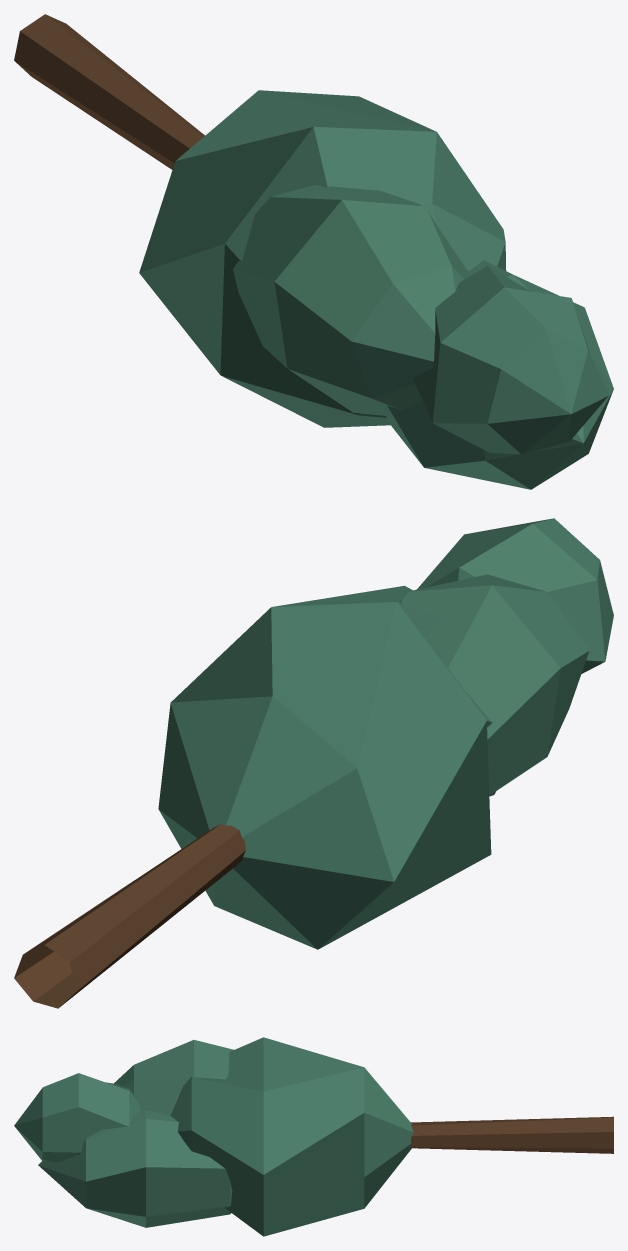
The model's file is growth_2.glb.
3 renders of one model, top to bottom at view 1: azimuth 30°, elevation 25°; view 2: azimuth 150°, elevation 25°; view 3: azimuth 270°, elevation 25°, orthographic. The views are drawn at different scales.
Parts seen in each view (by area): view 1: tree_11_growth_2; view 2: tree_11_growth_2; view 3: tree_11_growth_2.
Part boxes in pixels (box(x1,y1,x2,y2)): tree_11_growth_2: box(14, 14, 613, 489); tree_11_growth_2: box(14, 518, 613, 1008); tree_11_growth_2: box(14, 1037, 613, 1236).
Bounding box in the file's own units: 10.08 × 10.08 × 31.69.
